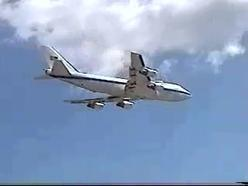aircraft: (40, 45, 194, 113)
